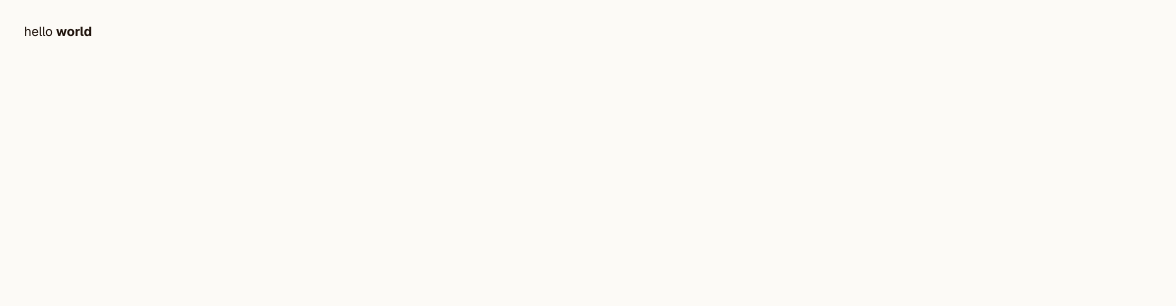
it: DescriptionEditor — Plain mode never leaks raw HTML tags (Bug 2) › opening an HTML value in Plain mode strips tags into the textarea
What coordinates should you click on to do the following:
click the button "hello world"
I would click on:
 (58, 32)
Its box is x1=24 y1=23 x2=92 y2=40.
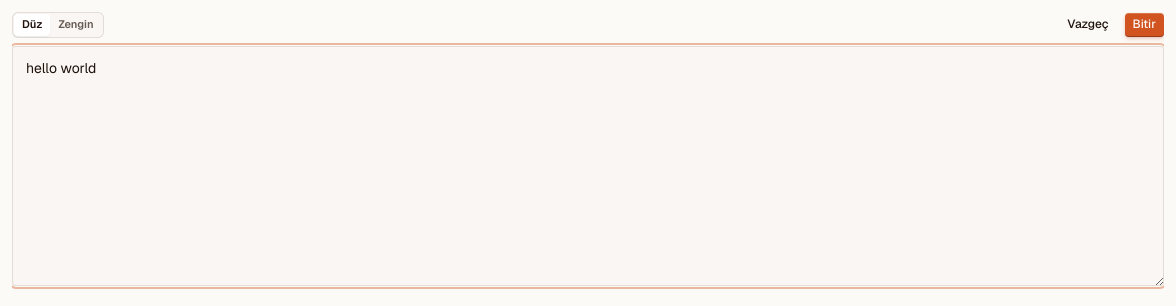
Expected: the text box holds "hello world"
